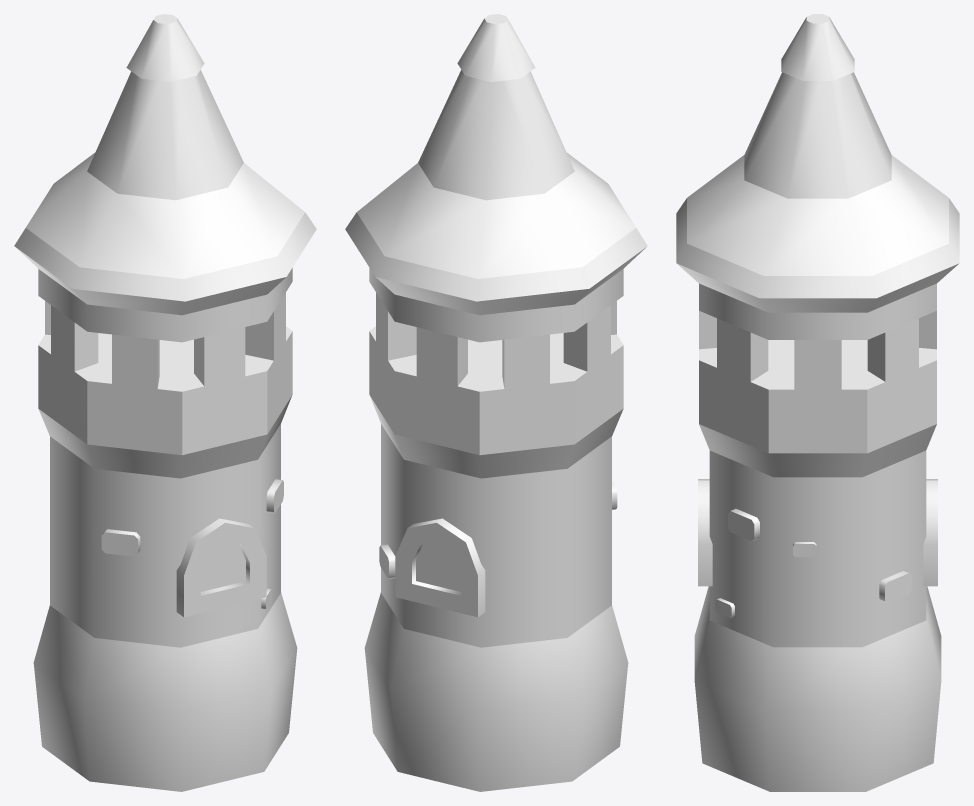
Rendered from tower-complete-large.glb.
The picture shows the model from 3 angles, left to right: view 1: azimuth 30°, elevation 25°; view 2: azimuth 150°, elevation 25°; view 3: azimuth 270°, elevation 25°; orthographic projection.
Parts seen in each view (by area): view 1: tower-complete-large; view 2: tower-complete-large; view 3: tower-complete-large.
Part boxes in pixels (x1=…): tower-complete-large: x1=14, y1=14, x2=316, y2=791; tower-complete-large: x1=345, y1=14, x2=647, y2=791; tower-complete-large: x1=676, y1=14, x2=959, y2=791.
Size of the model in its own units: 3.63 by 10.22 by 3.63.
1 material, 1 textured.
